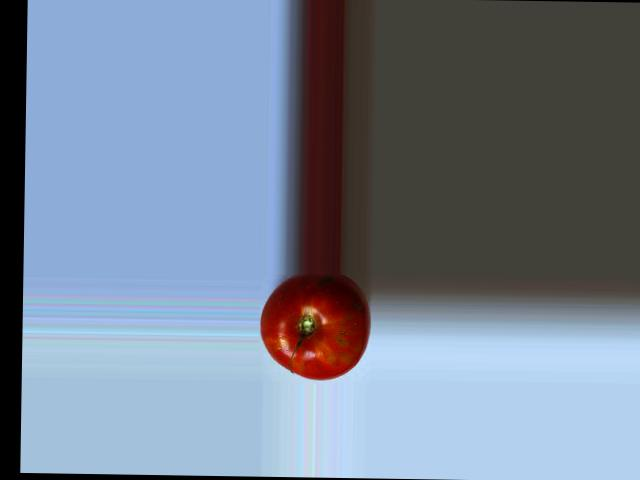tomato: (259, 272, 371, 380)
